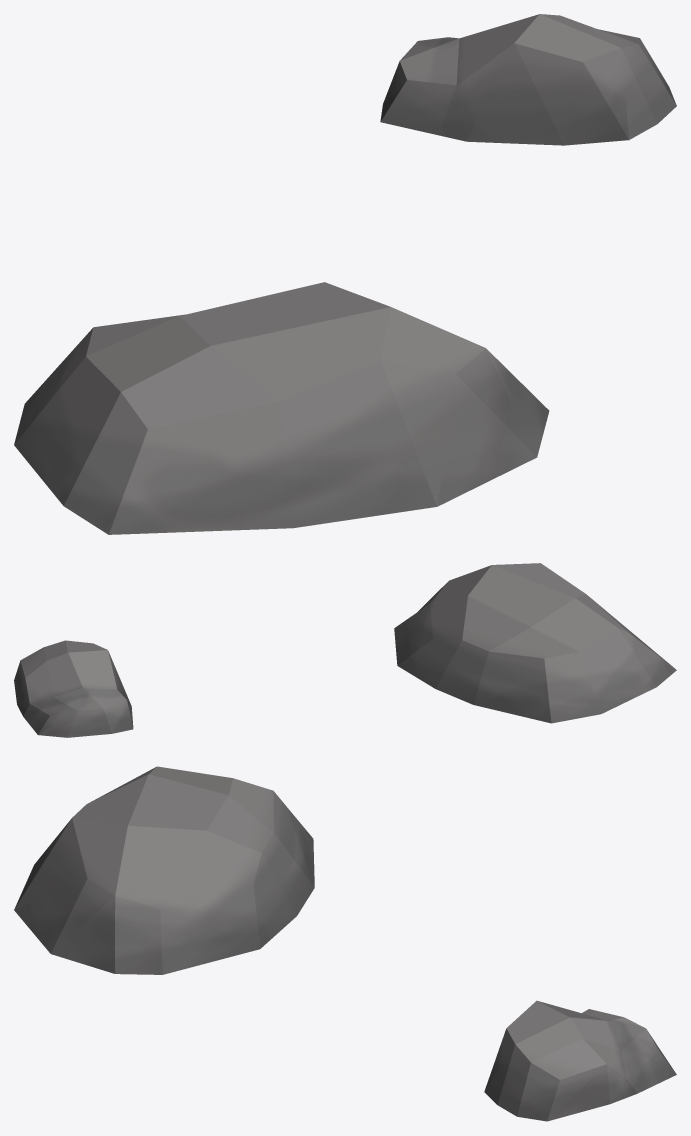
The model's file is RockA.fbx.
3 renders of one model, top to bottom at view 1: azimuth 30°, elevation 25°; view 2: azimuth 150°, elevation 25°; view 3: azimuth 270°, elevation 25°, orthographic. The views are drawn at different scales.
Visible parts, largest first — view 1: RocasA; view 2: RocasA; view 3: RocasA.
Part boxes in pixels (x1=…): RocasA: x1=14, y1=14, x2=676, y2=534; RocasA: x1=14, y1=563, x2=676, y2=737; RocasA: x1=14, y1=766, x2=676, y2=1121.
Bounding box in the file's own units: 0.6913 × 0.1 × 0.6263.
